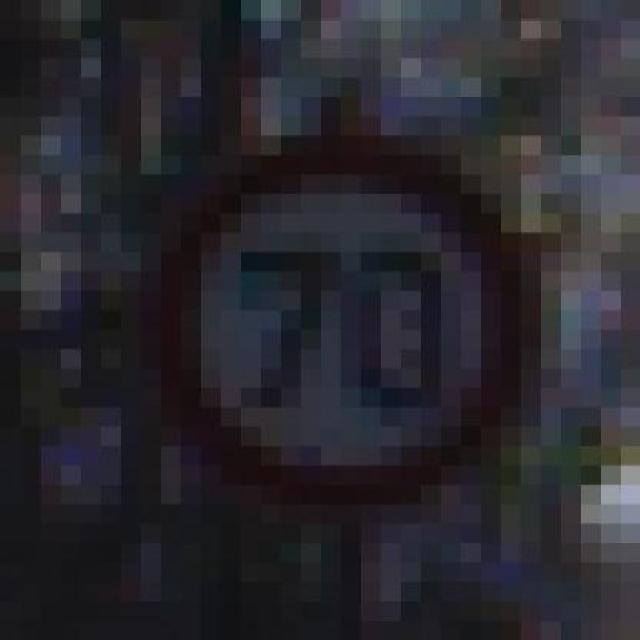forb_speed_over_70: (170, 145, 525, 497)
